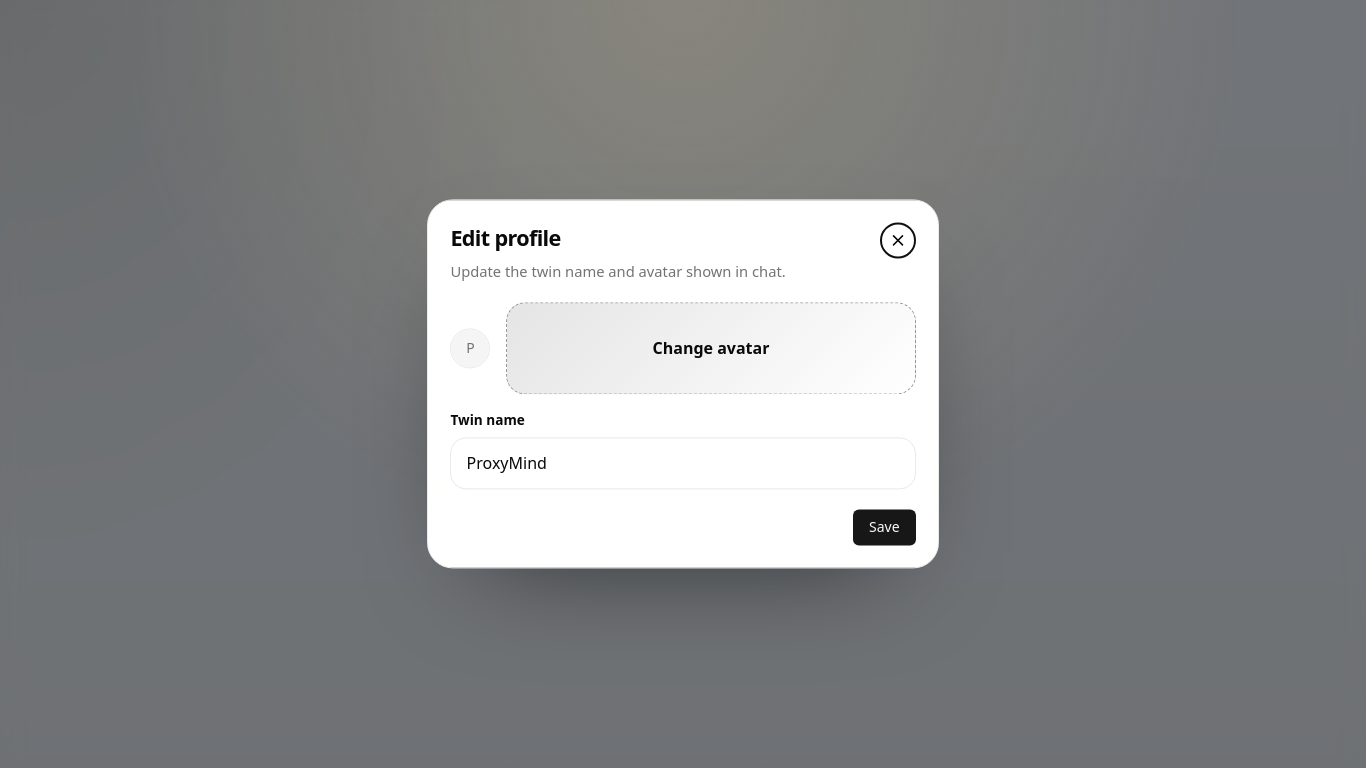
Test: ProfileEditModal › keeps the modal open and shows an error when save fails
This screenshot has width=1366, height=768.
Click the button "Save" at (884, 527), box [853,509,916,545]
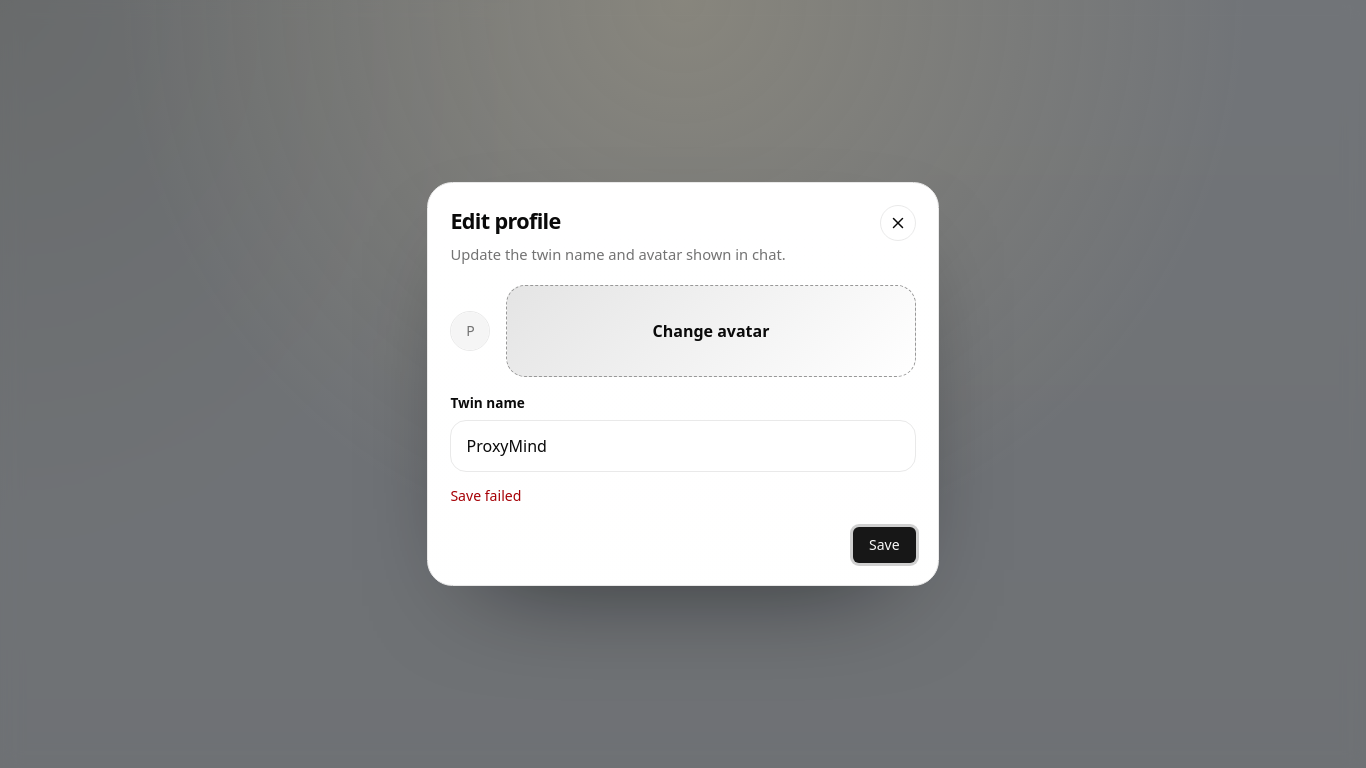
Check: the dialog is shown, box [427,182,939,586]
Check: the message reads "Save failed", box [450,486,521,505]
